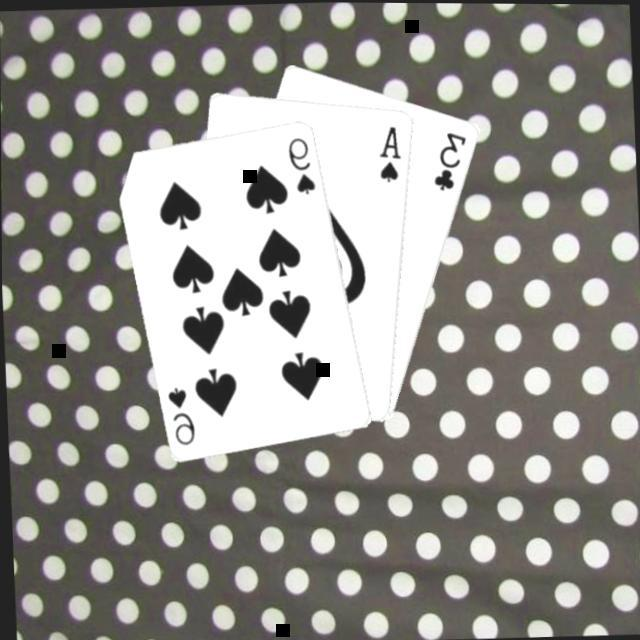3C: (430, 129, 472, 194)
9S: (285, 134, 319, 199), (164, 384, 198, 449)
AS: (376, 122, 406, 186)
